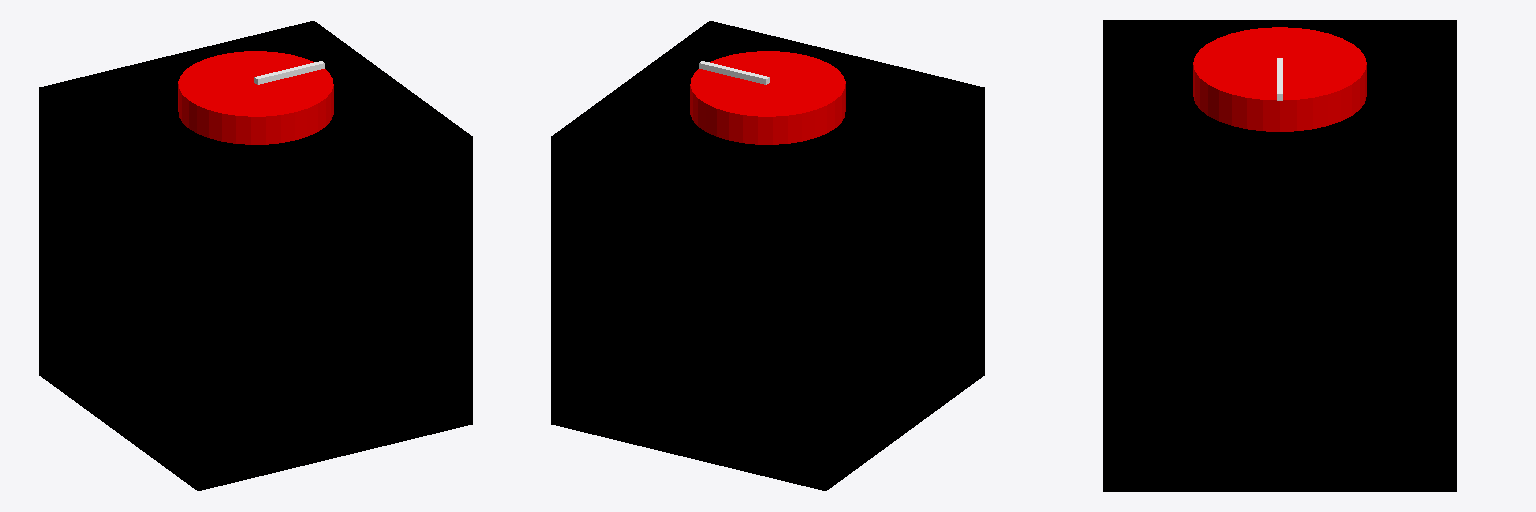
robot.urdf — rotor_indicator:
<?xml version="1.0"?>
<robot name="rotor_indicator" xmlns:xacro="http://www.ros.org/wiki/xacro">

  <link name="world"/>
  <link name="base_link"/>

  <link name="stator_link">
    <visual>
      <geometry>
        <box size="0.102 0.102 0.102"/>
      </geometry>
      <material name="black">
        <color rgba="0 0 0 1"/>
      </material>
    </visual>
    <collision>
      <geometry>
        <box size="0.102 0.102 0.102"/>
      </geometry>
    </collision>
  </link>

  <link name="rotor_link">
    <visual>
      <geometry>
        <cylinder length="0.01" radius="0.025"/>
      </geometry>
      <material name="red">
        <color rgba="1 0 0 1"/>
      </material>
    </visual>
    <collision>
      <geometry>
        <cylinder length="0.01" radius="0.025"/>
      </geometry>
    </collision>
  </link>

  <link name="angle_link">
    <visual>
      <geometry>
        <box size="0.025 0.002 0.002"/>
      </geometry>
      <material name="white">
        <color rgba="1 1 1 1"/>
      </material>
    </visual>
    <collision>
      <geometry>
        <box size="0.025 0.002 0.002"/>
      </geometry>
    </collision>
  </link>

  <joint name="base_joint" type="fixed">
    <parent link="world"/>
    <child link="base_link"/>
    <origin xyz="0 0 0" rpy="0 0 0"/>
  </joint>

  <joint name="stator_joint" type="fixed">
    <parent link="base_link"/>
    <child link="stator_link"/>
    <origin xyz="0 0 0.051" rpy="0 0 0"/>
  </joint>

  <joint name="angle" type="revolute">
    <parent link="stator_link"/>
    <child link="rotor_link"/>
    <origin xyz="0 0 0.056" rpy="0 0 0"/>
    <axis xyz="0 0 -1"/>
    <limit lower="-3.14159" upper="3.14159" effort="1" velocity="3.14"/>
  </joint>

  <joint name="indicator" type="fixed">
    <parent link="rotor_link"/>
    <child link="angle_link"/>
    <origin xyz="0.0125 0 0.006" rpy="0 0 0"/>
  </joint>

</robot>

--- What the picture shows (computed from the rendered views, not written in the file) ---
The picture shows the robot from 3 angles, left to right: view 1: azimuth 30°, elevation 25°; view 2: azimuth 150°, elevation 25°; view 3: azimuth 270°, elevation 25°; orthographic projection.
Robot: rotor_indicator — 5 links, 4 joints (1 revolute, 3 fixed); root link world; default pose: every joint at zero.
Links seen in each view (by area): view 1: stator_link, rotor_link, angle_link; view 2: stator_link, rotor_link, angle_link; view 3: stator_link, rotor_link.
Boxes of the visible links, box(x1,y1,x2,y2) form: stator_link: box(39, 21, 472, 490); rotor_link: box(178, 51, 333, 144); angle_link: box(254, 61, 324, 84); stator_link: box(551, 21, 984, 490); rotor_link: box(690, 51, 845, 144); angle_link: box(699, 61, 769, 84); stator_link: box(1103, 20, 1456, 491); rotor_link: box(1193, 27, 1366, 131).
Size in the robot's own frame: 0.102 by 0.102 by 0.114 metres.
Geometry: primitives only (box / cylinder / sphere), no mesh files.